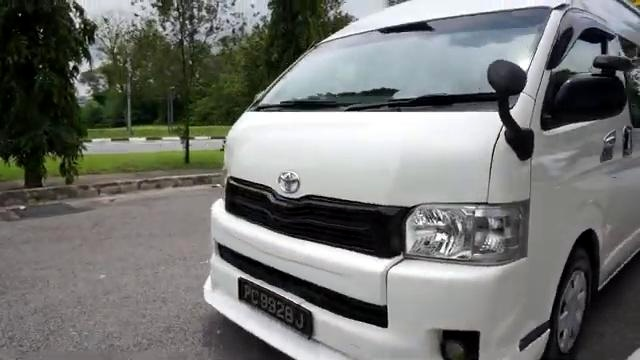van: (204, 1, 636, 355)
